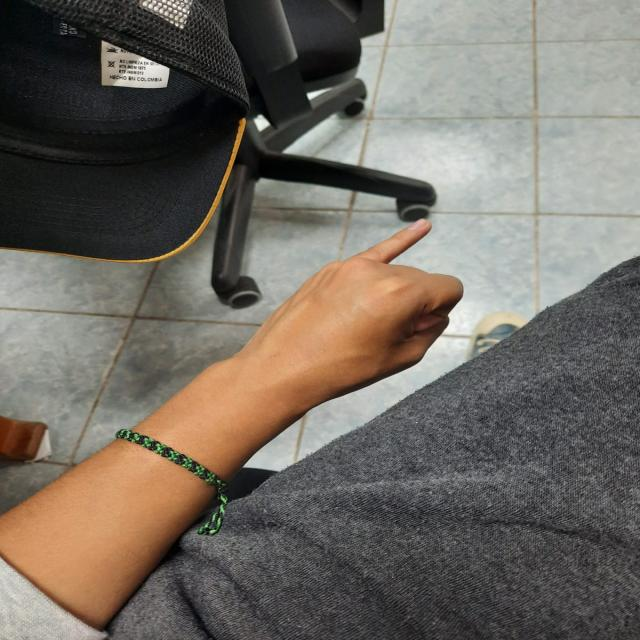Z: (196, 202, 482, 434)
